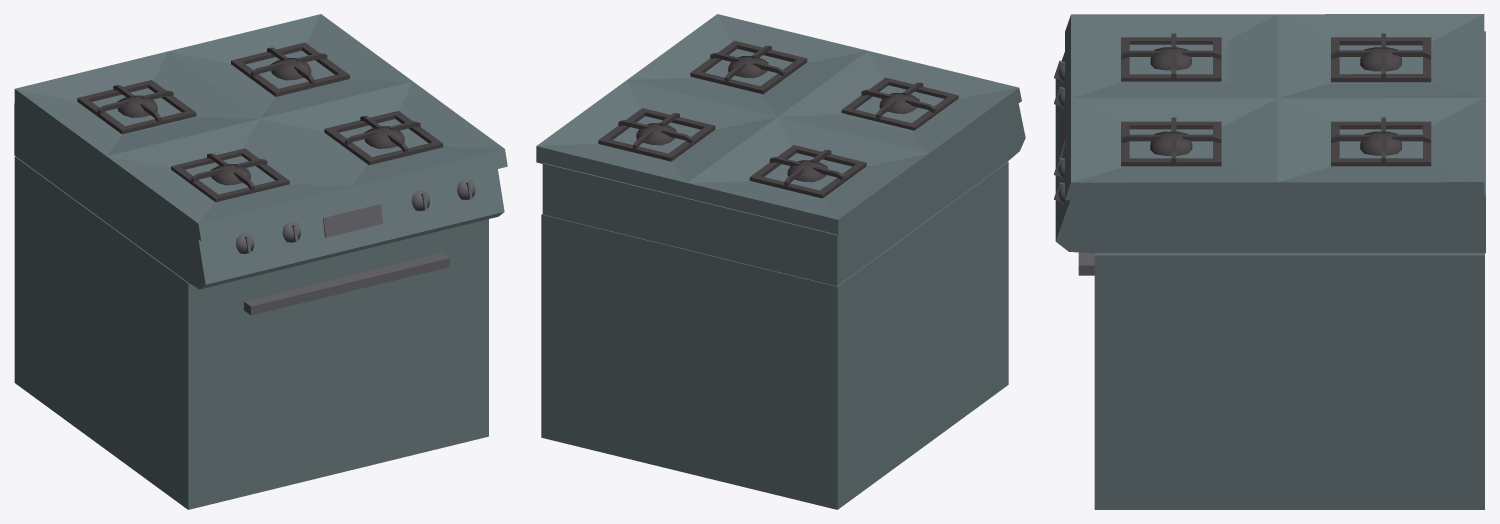
The model's file is pechka.fbx.
The picture shows the model from 3 angles, left to right: view 1: azimuth 30°, elevation 25°; view 2: azimuth 150°, elevation 25°; view 3: azimuth 270°, elevation 25°; orthographic projection. The views are drawn at different scales.
Parts seen in each view (by area): view 1: печь; view 2: печь; view 3: печь.
Boxes of the visible parts, x1,y1,x2,y2 form: печь: (14,14,507,509); печь: (536,14,1025,509); печь: (1054,14,1485,509).
Bounding box in the file's own units: 114 × 106 × 124.
